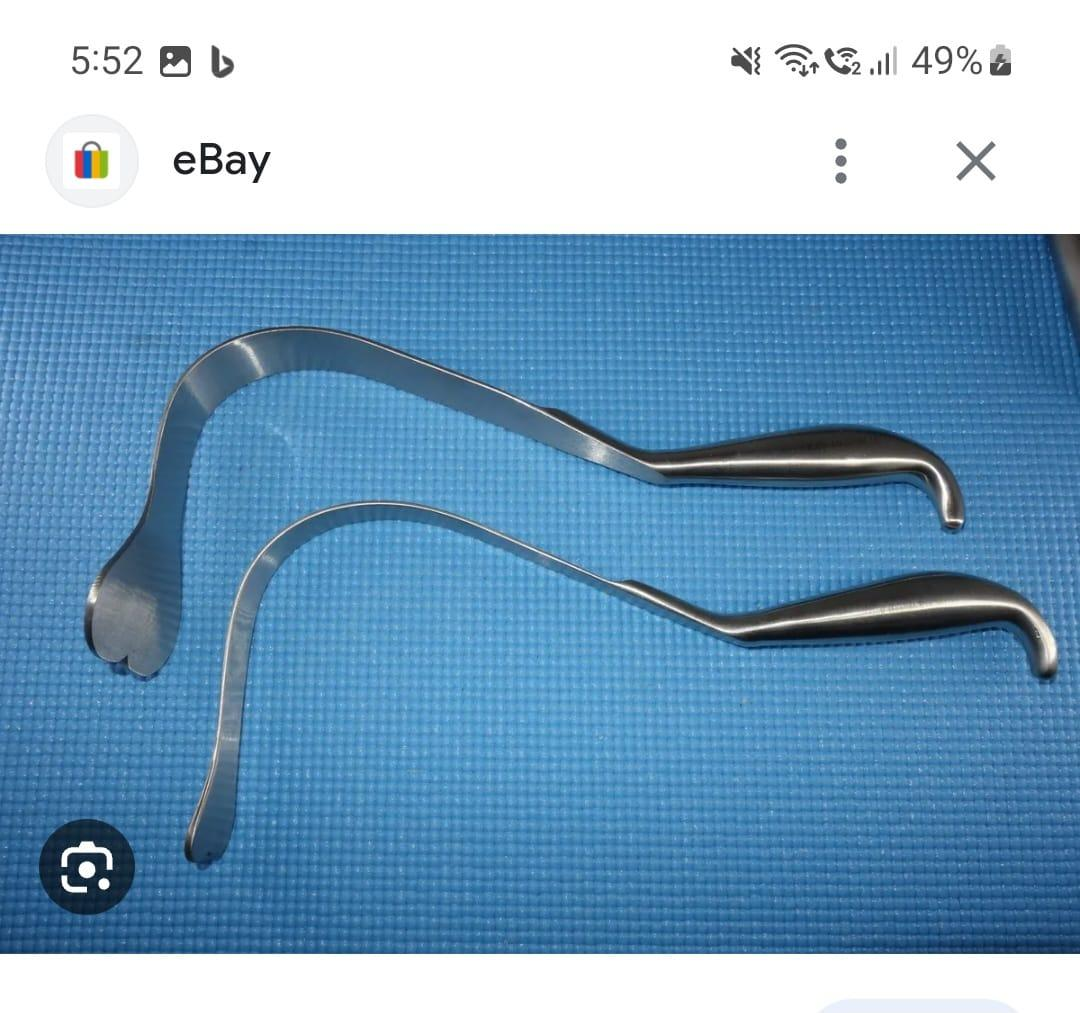Harrington Retractor: (174, 491, 1056, 877), (81, 316, 980, 684)
